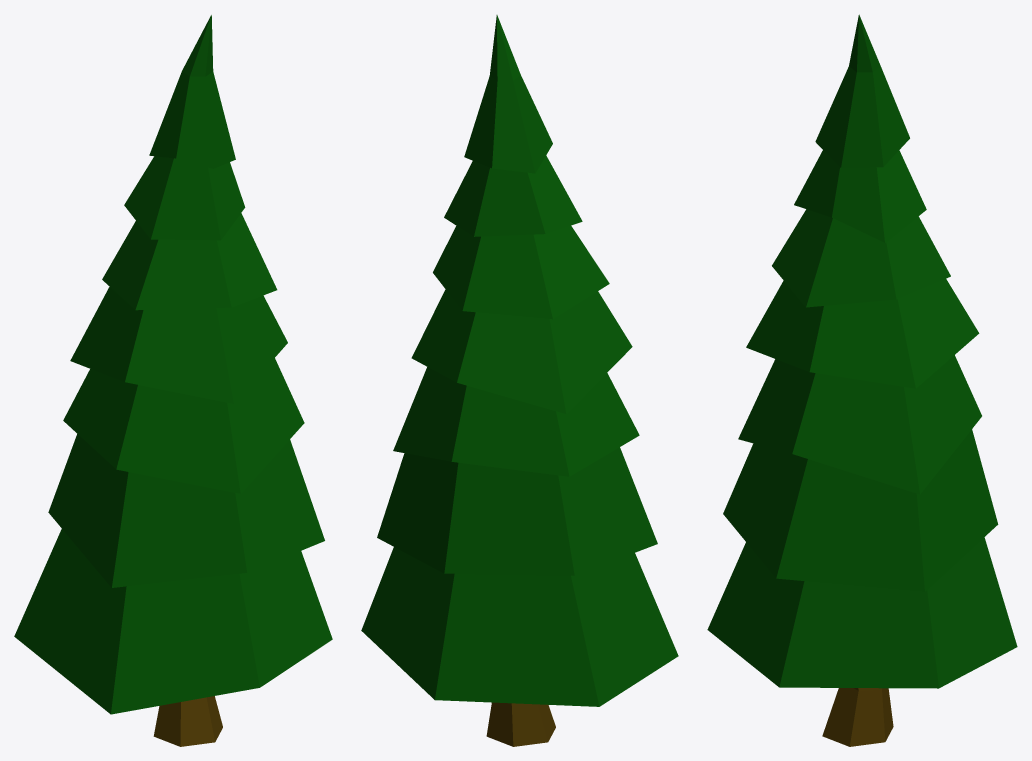
File: pine_1.fbx
3 renders of one model, left to right at view 1: azimuth 30°, elevation 25°; view 2: azimuth 150°, elevation 25°; view 3: azimuth 270°, elevation 25°, orthographic. The views are drawn at different scales.
Parts seen in each view (by area): view 1: Pine_Tree_Big1_pCylinder33; view 2: Pine_Tree_Big1_pCylinder33; view 3: Pine_Tree_Big1_pCylinder33.
Part boxes in pixels (x1,y1,x2,y2): Pine_Tree_Big1_pCylinder33: (14, 15, 332, 746); Pine_Tree_Big1_pCylinder33: (361, 15, 678, 746); Pine_Tree_Big1_pCylinder33: (707, 14, 1017, 746).
Bounding box in the file's own units: 148 × 408 × 157.
